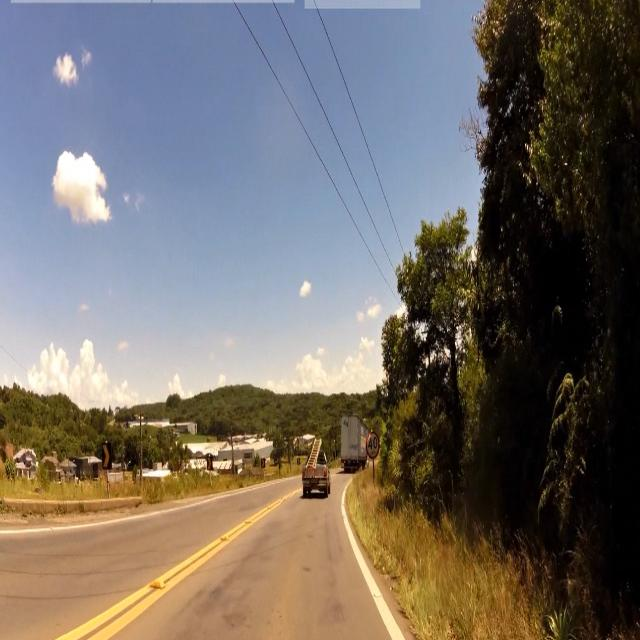R-19: (366, 431, 380, 462)
